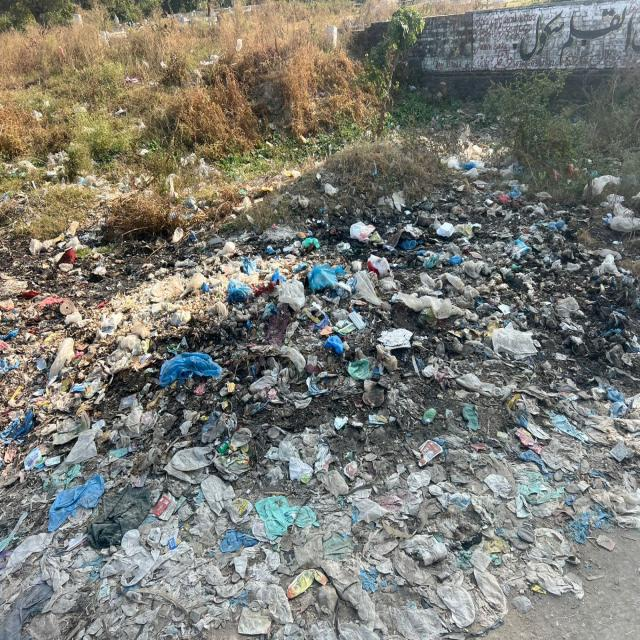garbage: (10, 225, 640, 640)
